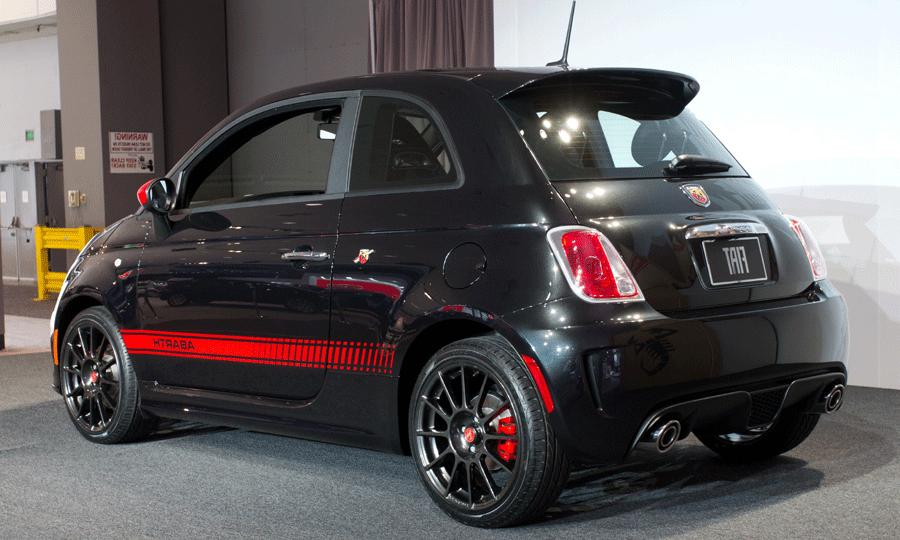Car: (14, 31, 878, 540)
